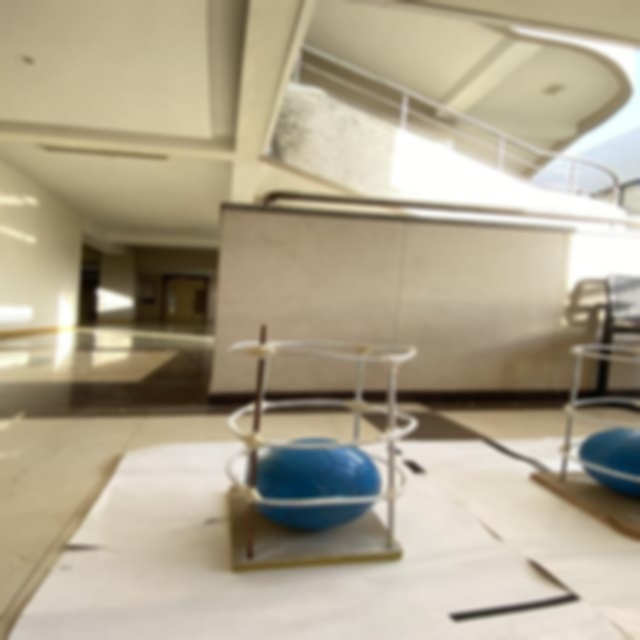blue_ball: (246, 439, 381, 526), (578, 423, 640, 498)
silo: (224, 343, 423, 569), (540, 339, 640, 534)
